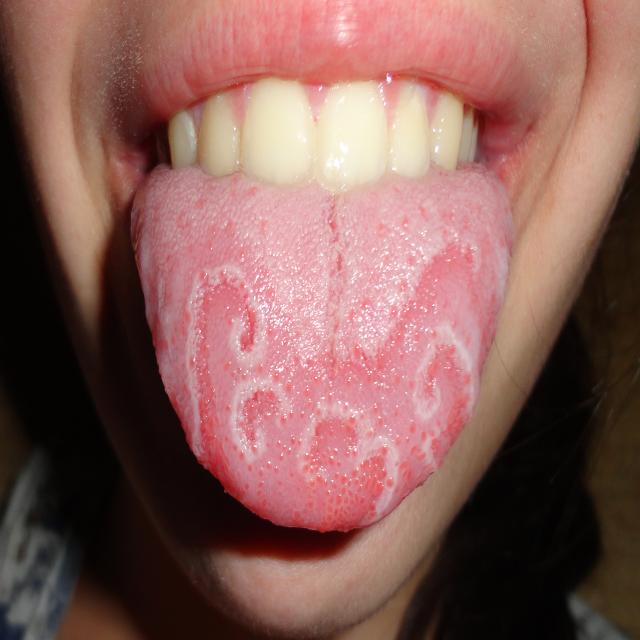baitaishe: (130, 189, 514, 534)
botaishe: (182, 260, 298, 464), (297, 397, 406, 526), (405, 320, 485, 435)
